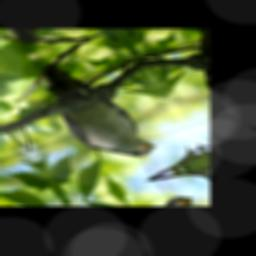Cuckoo: (27, 52, 160, 172)
